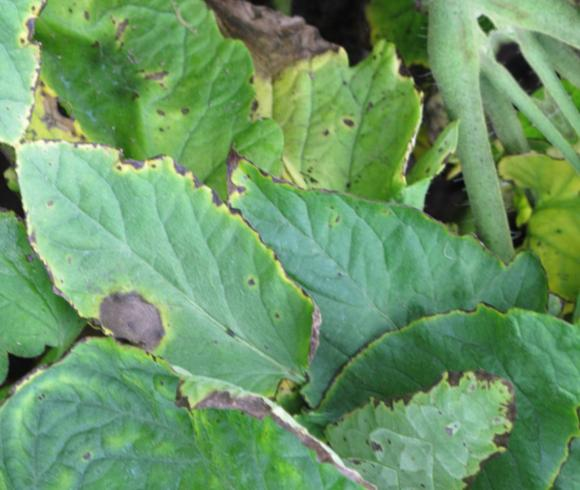Tomato Early blight leaf: (0, 70, 352, 473), (4, 209, 391, 490), (46, 1, 299, 245)
